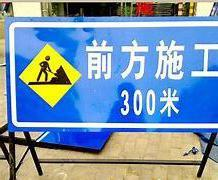sign: (7, 20, 218, 131)
